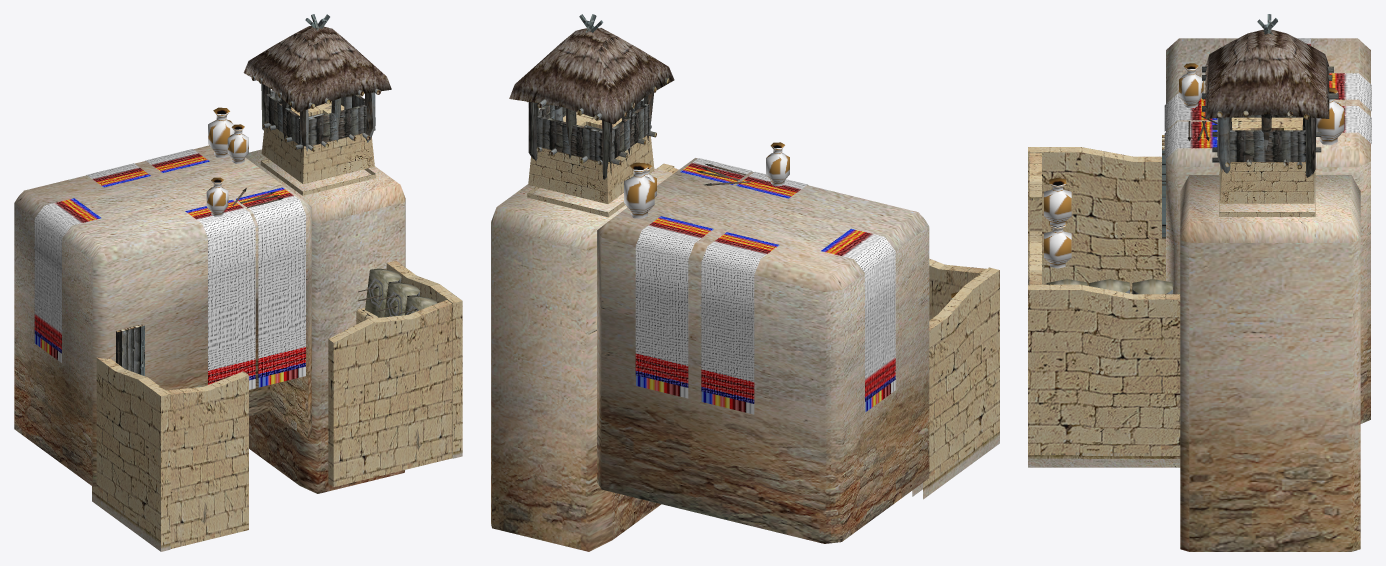
File: range_hopi.dae
3 views of the same model, side by side, from view 1: azimuth 30°, elevation 25°; view 2: azimuth 150°, elevation 25°; view 3: azimuth 270°, elevation 25° (orthographic). The views are drawn at different scales.
Visible parts, largest first — view 1: Cube; view 2: Cube; view 3: Cube.
Boxes of the visible parts, x1,y1,x2,y2 form: Cube: [14, 14, 462, 551]; Cube: [491, 14, 999, 551]; Cube: [1028, 14, 1371, 551].
Size of the model in its own units: 20.79 by 17.05 by 27.52.
